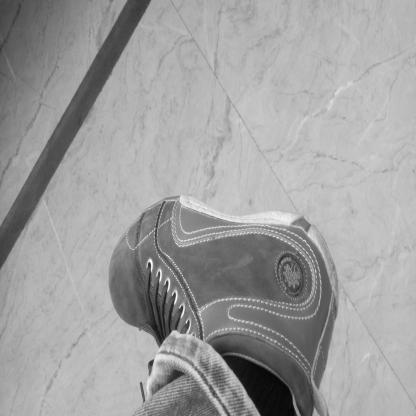ankle: (229, 333, 240, 352)
heel: (332, 277, 338, 287)
pinky: (123, 245, 129, 254)
right_foot: (110, 196, 341, 412)
toe: (120, 309, 127, 318)
